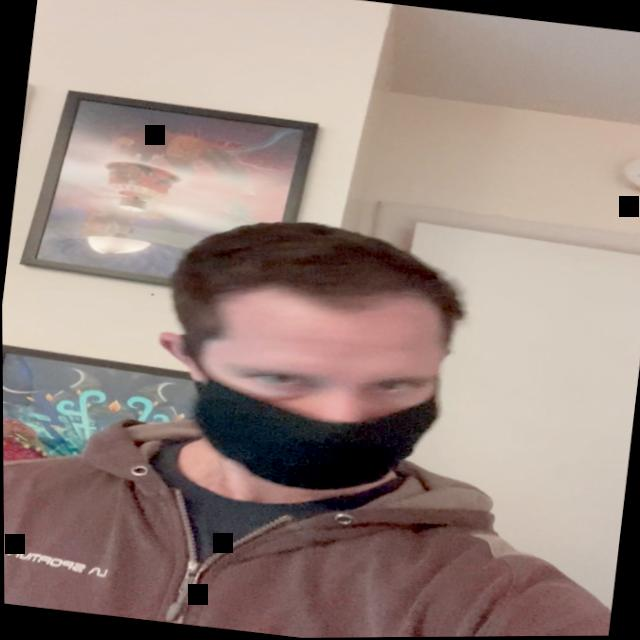Mask: (137, 267, 468, 522)
